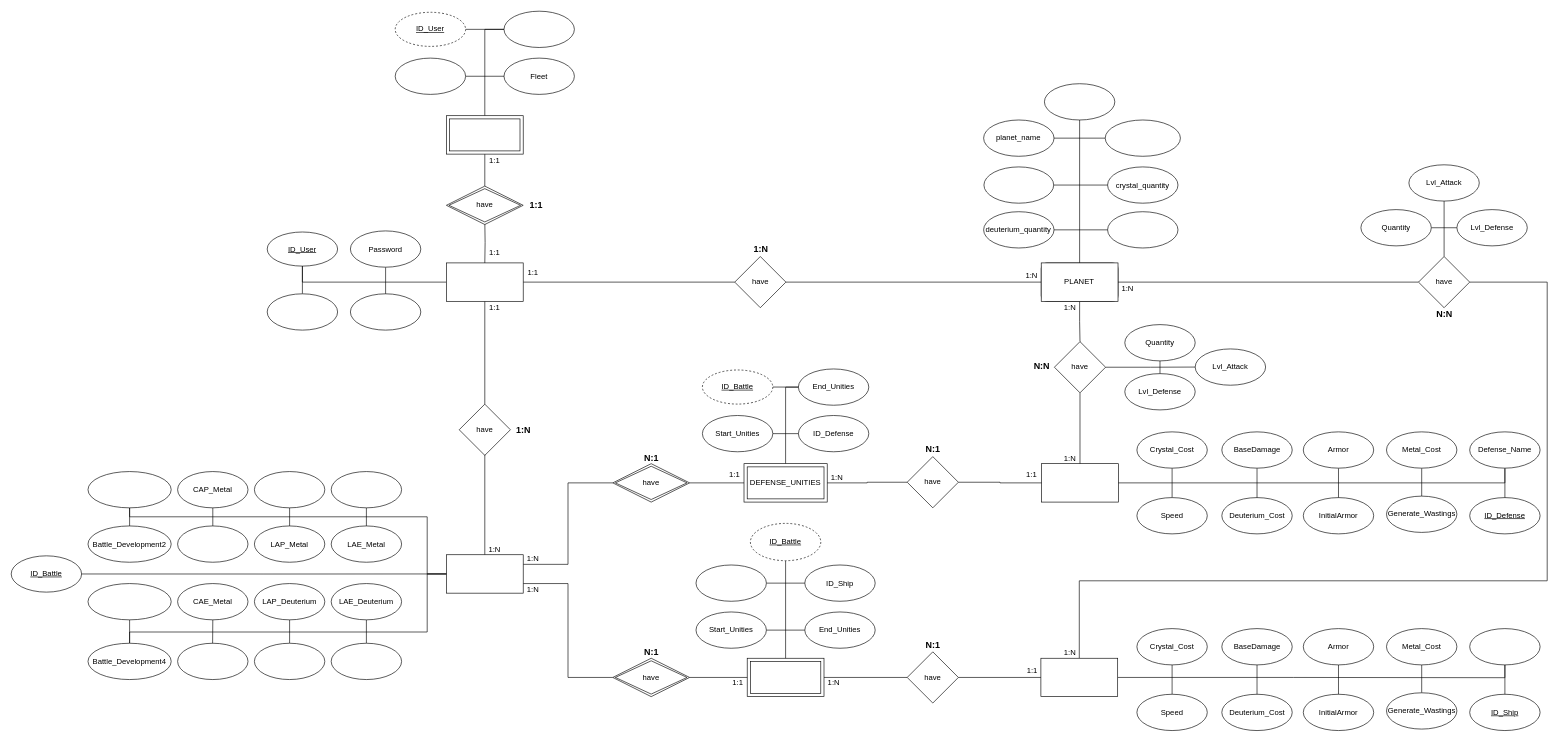
Image size: 1559x742. Some labels were removed from this diagram. Each missing label, with the centre of its shape:
"ATTACK_UNITIES" belongs at (785,677).
"BATTLE" belongs at (484,573).
"Battle_Development1" belongs at (129,489).
"Battle_Development3" belongs at (129,601).
"Birth_Date" belongs at (385,311).
"CAE_Deuterium" belongs at (212,661).
"CAP_Deuterium" belongs at (212,543).
"DEFENSE" belongs at (1079,482).
"Deuterium" belongs at (538,29).
"ENEMIE" belongs at (484,134).
"ID_Planet" belongs at (1079,101).
"LAE_Weighted" belongs at (366,661).
"LAP_Weighted" belongs at (289,661).
"Metal" belongs at (430,75).
"metal_quantity" belongs at (1142,229).
"SHIP" belongs at (1079,677).
"Ship_Name" belongs at (1504,646).
"Team" belongs at (730,582).
"technology_attack" belongs at (1018,184).
"technology_defense" belongs at (1142,137).
"USER_PW" belongs at (484,281).
"Username" belongs at (302,311).
"Waste_Deuterium" belongs at (289,489).
"Waste_Metal" belongs at (366,489).
